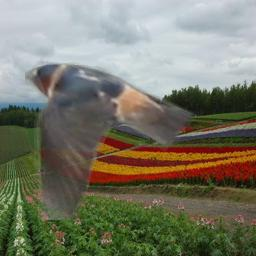Swallow: (25, 56, 197, 220)
